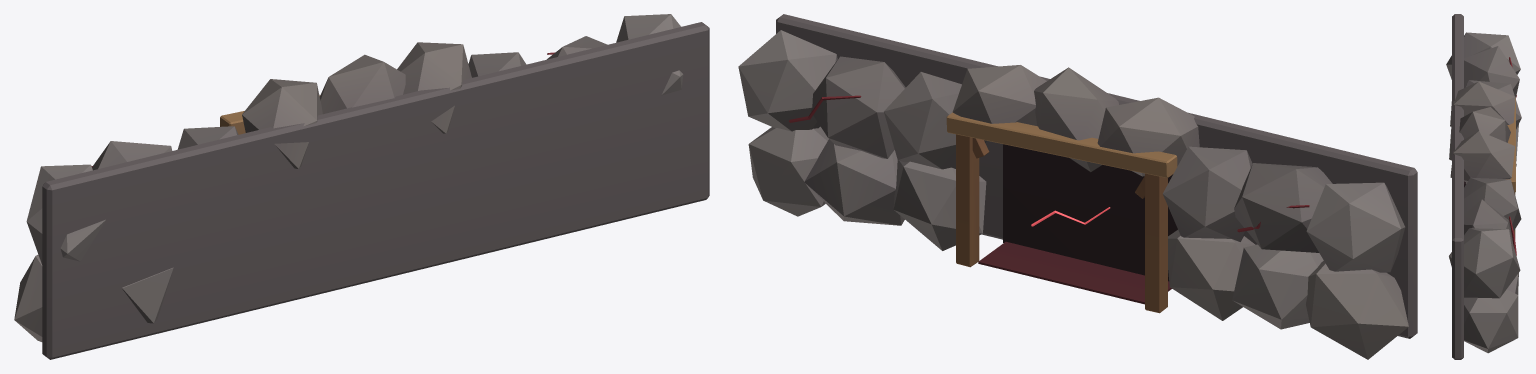
The model's file is BM_EntranceOpen.glb.
3 views of the same model, side by side, from view 1: azimuth 30°, elevation 25°; view 2: azimuth 150°, elevation 25°; view 3: azimuth 270°, elevation 25° (orthographic). The views are drawn at different scales.
Visible parts, largest first — view 1: BM_EntranceOpen__Body; view 2: BM_EntranceOpen__Body; view 3: BM_EntranceOpen__Body.
Part boxes in pixels (x1,y1,x2,y2): BM_EntranceOpen__Body: [14, 14, 709, 359]; BM_EntranceOpen__Body: [738, 14, 1417, 359]; BM_EntranceOpen__Body: [1446, 14, 1521, 359].
Size of the model in its own units: 55.78 by 16.62 by 7.64.
